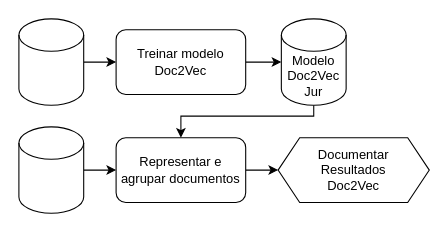
The diagram is 448 pixels wide and 232 high, and some of its shapes have lost their labels. The centre of each missing label's shape, as x and y in pixels:
"Base de treino" belongs at (51,61).
"Base de validação" belongs at (51,169).
